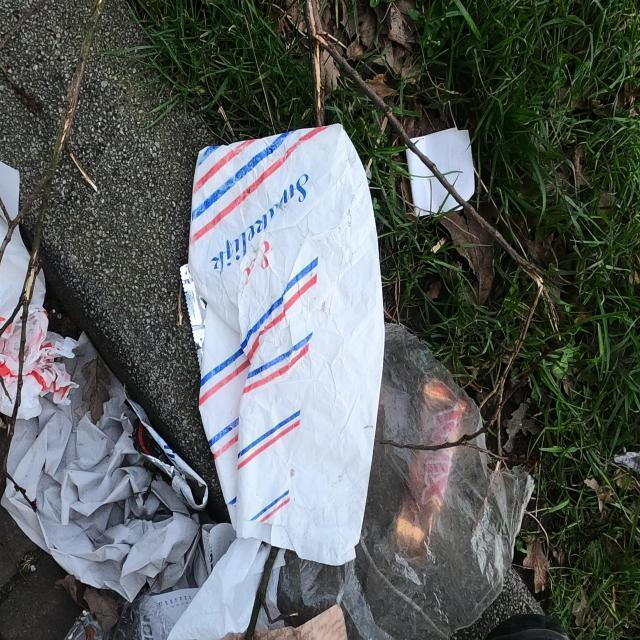Paper: (186, 118, 387, 570), (167, 531, 286, 640), (406, 125, 475, 221), (140, 585, 202, 640), (198, 518, 235, 576)
Plastic: (388, 376, 468, 564)
